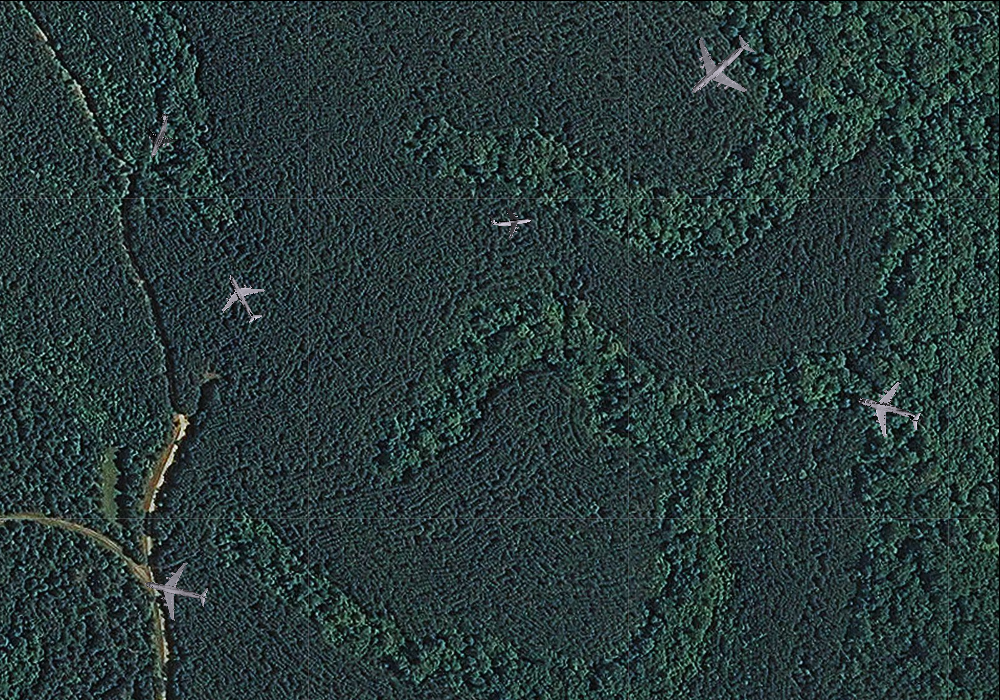plane: (668, 15, 772, 118), (848, 371, 929, 449), (138, 555, 213, 627), (208, 263, 277, 333), (129, 104, 186, 164), (486, 199, 532, 242)
